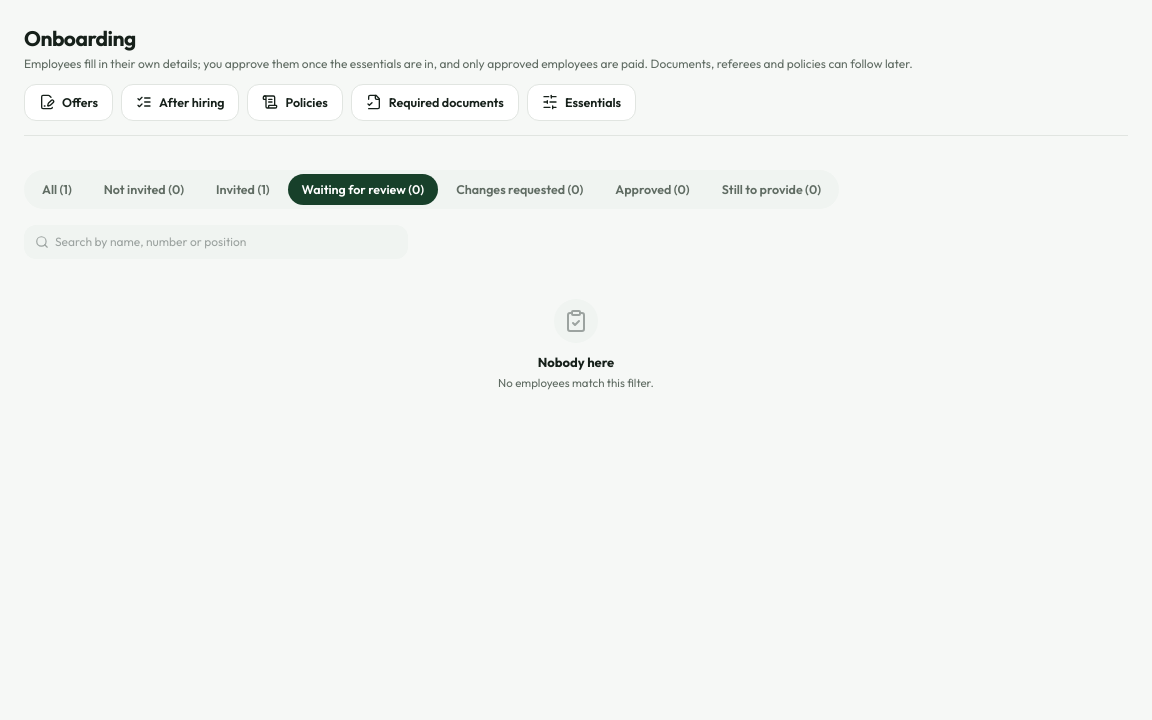
Test: OnboardingReview › approves for someone who was invited but never sent their form
Click the button "All (1)".
click(57, 189)  # box [28, 174, 86, 205]
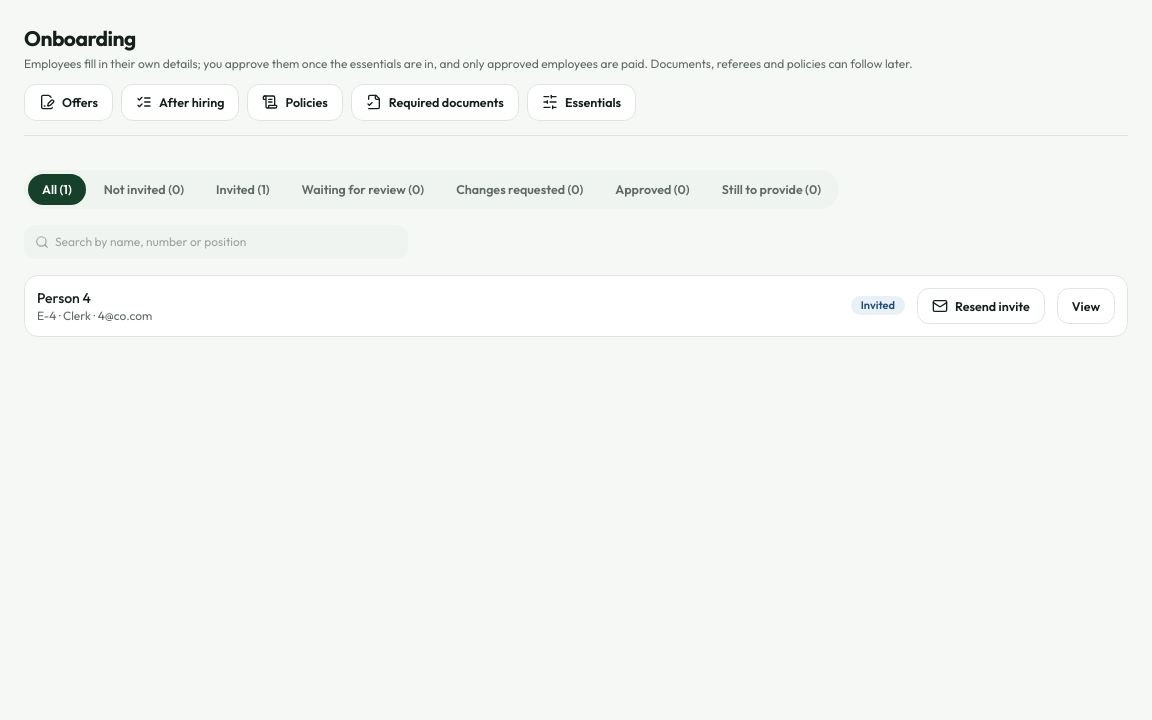
Click the button "View".
click(1086, 306)  # box [1057, 288, 1115, 324]
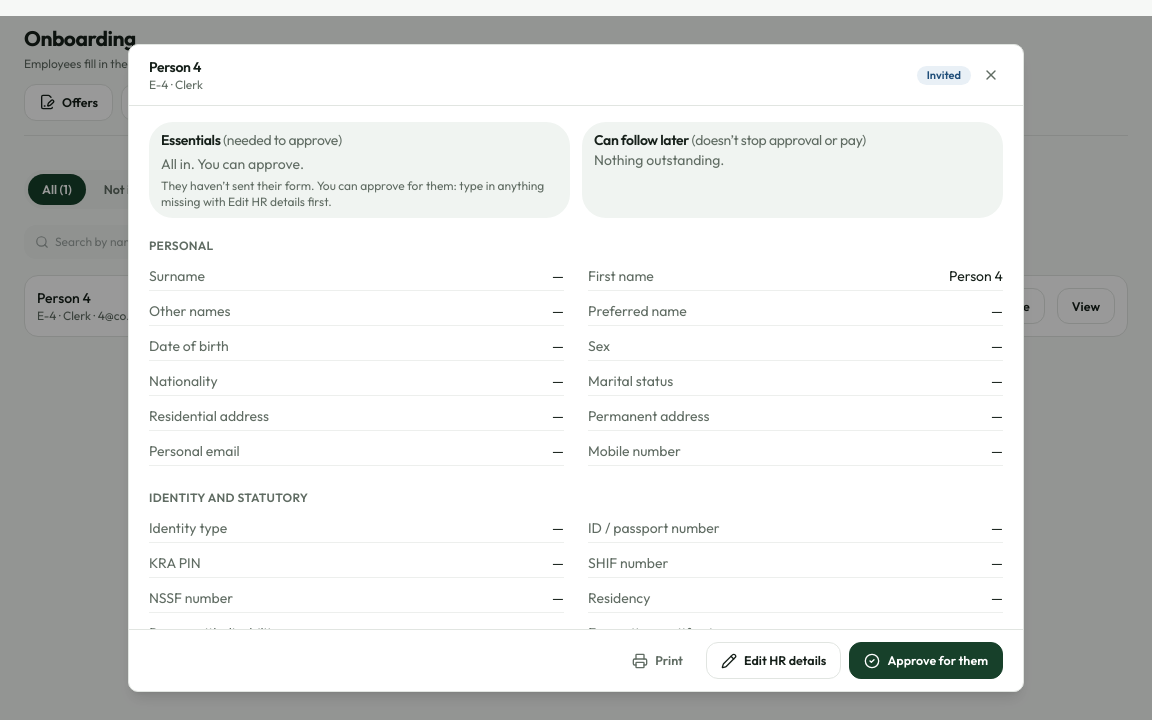
Expected: the text "haven’t sent their form" is shown, [161, 178, 544, 209]
Expected: the button "Approve for them" is enabled
Click the button "Approve for them".
click(926, 661)  # box [849, 642, 1003, 679]
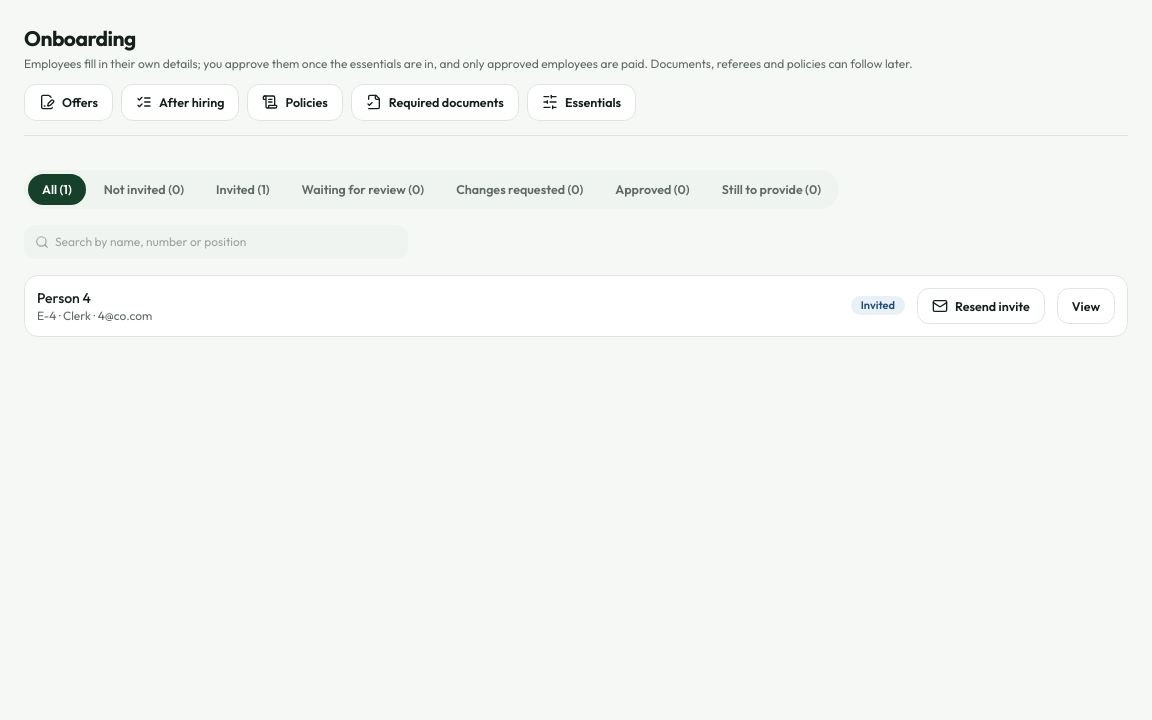
Expected: the dialog is gone
